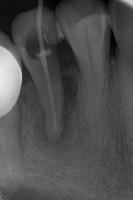Dental Caries: (34, 73, 79, 153)
